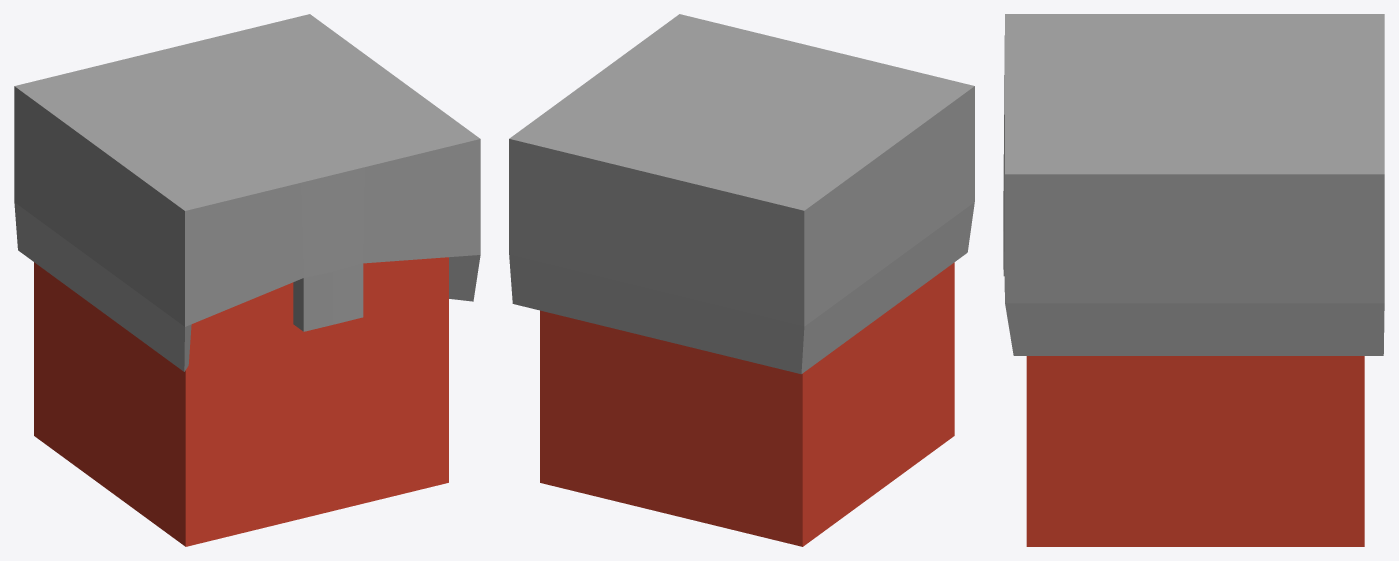
File: General.fbx
3 renders of one model, left to right at view 1: azimuth 30°, elevation 25°; view 2: azimuth 150°, elevation 25°; view 3: azimuth 270°, elevation 25°, orthographic. The views are drawn at different scales.
Visible parts, largest first — view 1: Cube.001, Cube; view 2: Cube.001, Cube; view 3: Cube.001, Cube.
Boxes of the visible parts, bbox=[...] form: Cube.001: bbox=[14, 14, 480, 371]; Cube: bbox=[34, 257, 448, 546]; Cube.001: bbox=[509, 14, 974, 374]; Cube: bbox=[540, 262, 954, 546]; Cube.001: bbox=[1003, 14, 1384, 355]; Cube: bbox=[1026, 356, 1364, 546].
Bounding box in the file's own units: 225 × 251 × 226.
